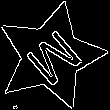M_SE: (16, 22, 85, 90)
